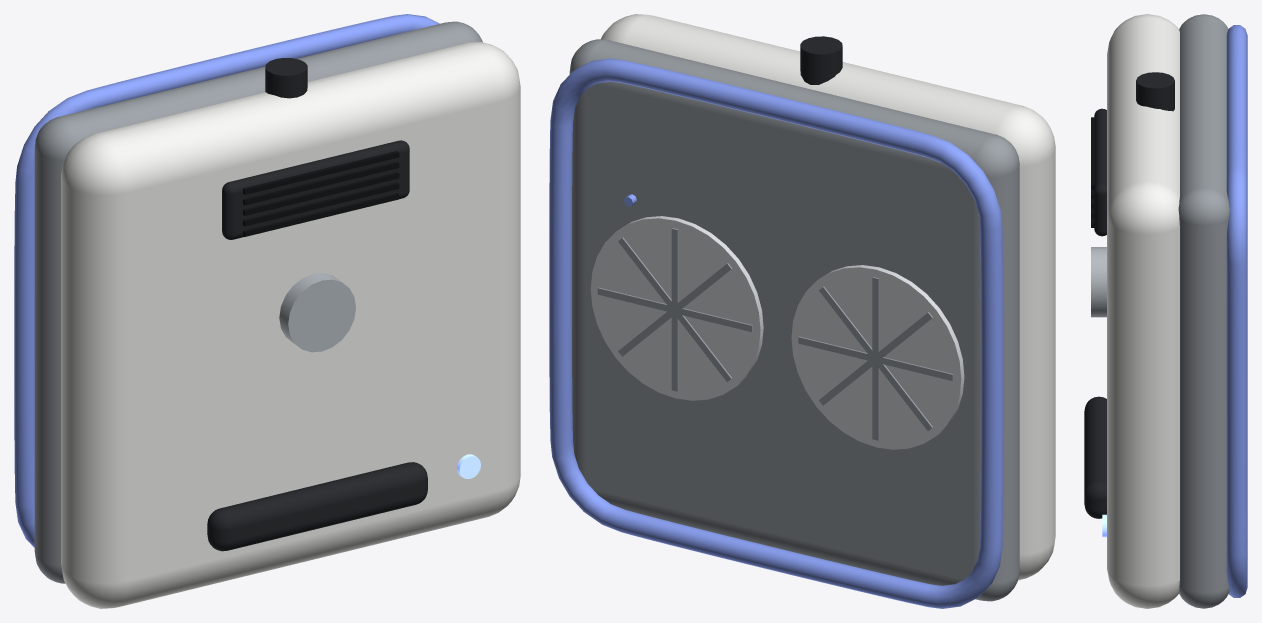
The model's file is windowBotPro.glb.
3 views of the same model, side by side, from view 1: azimuth 30°, elevation 25°; view 2: azimuth 150°, elevation 25°; view 3: azimuth 270°, elevation 25° (orthographic). The views are drawn at different scales.
Visible parts, largest first — view 1: cover, sides, sealMark, handle, vent, shell, motor, cablePort; view 2: sides, sealMark, cover, padL, padR, cablePort; view 3: cover, sides, sealMark, handle, vent, cablePort, motor, shell.
Boxes of the visible parts, x1=… form: cover: x1=61, y1=42, x2=520, y2=608; sides: x1=34, y1=21, x2=482, y2=583; sealMark: x1=14, y1=14, x2=439, y2=547; handle: x1=207, y1=462, x2=427, y2=551; vent: x1=222, y1=140, x2=409, y2=239; shell: x1=243, y1=151, x2=399, y2=236; motor: x1=279, y1=273, x2=355, y2=352; cablePort: x1=265, y1=58, x2=307, y2=98; sides: x1=569, y1=39, x2=1019, y2=601; sealMark: x1=549, y1=58, x2=1003, y2=608; cover: x1=601, y1=14, x2=1055, y2=580; padL: x1=590, y1=216, x2=763, y2=400; padR: x1=791, y1=265, x2=964, y2=449; cablePort: x1=800, y1=36, x2=842, y2=84; cover: x1=1107, y1=14, x2=1179, y2=608; sides: x1=1178, y1=14, x2=1229, y2=608; sealMark: x1=1226, y1=25, x2=1247, y2=597; handle: x1=1084, y1=396, x2=1106, y2=518; vent: x1=1094, y1=108, x2=1106, y2=236; cablePort: x1=1136, y1=72, x2=1174, y2=111; motor: x1=1091, y1=247, x2=1106, y2=317; shell: x1=1091, y1=117, x2=1094, y2=227.
Size of what is drawn, in the model's own units: 0.292 by 0.304 by 0.101.
